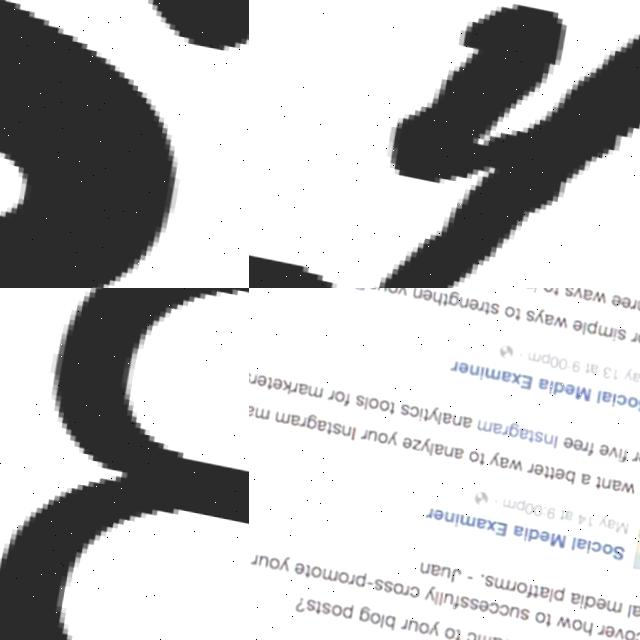0: (579, 500, 590, 516)
3: (0, 288, 249, 640)
5: (572, 347, 584, 363), (549, 495, 560, 511)
H: (366, 0, 640, 288)
S: (0, 0, 249, 288)
